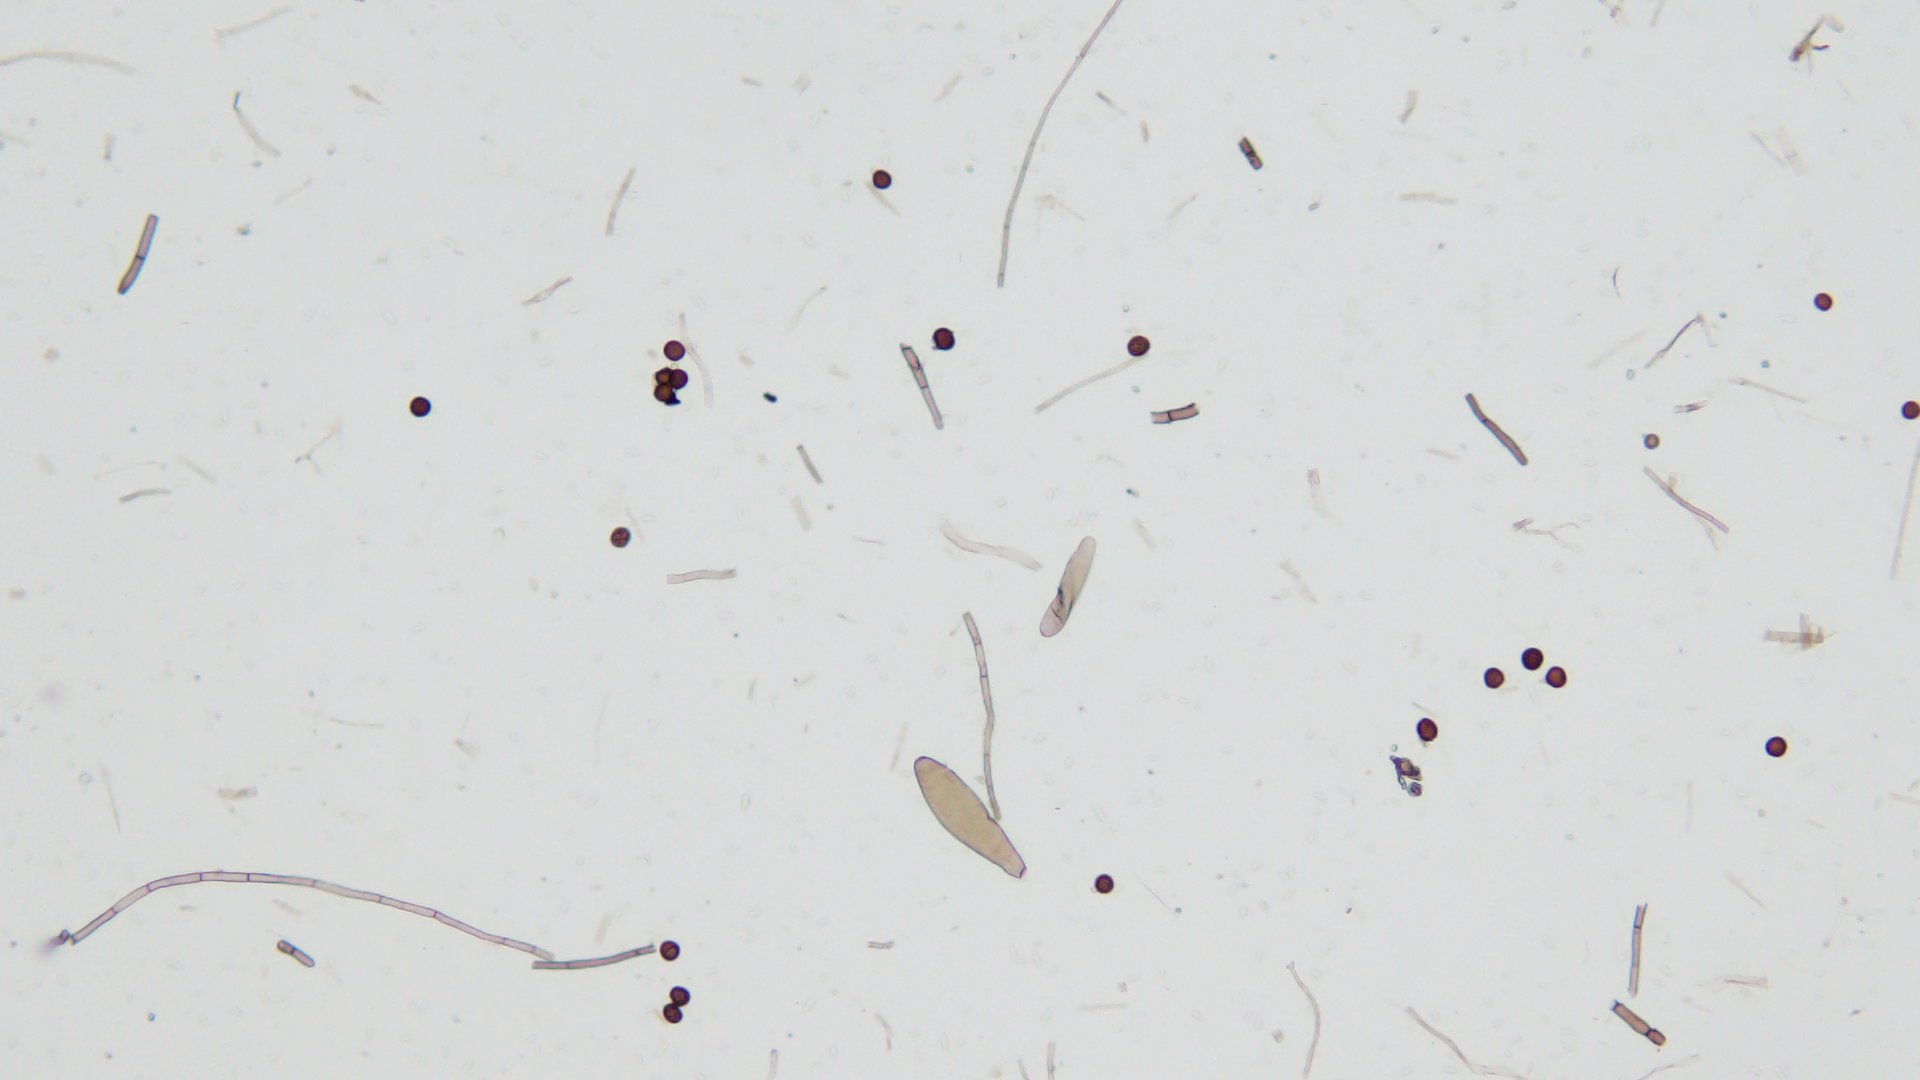dbb_spore: (913, 754, 1029, 882), (1036, 531, 1098, 640)
shs_spore: (1520, 646, 1545, 674), (931, 326, 957, 351), (1415, 717, 1440, 742), (870, 167, 894, 191), (1125, 335, 1151, 356), (1545, 666, 1569, 688), (1480, 669, 1505, 690), (611, 527, 633, 550), (1763, 737, 1788, 757), (411, 396, 433, 418), (659, 942, 680, 963), (1899, 398, 1919, 421), (670, 985, 690, 1006), (663, 1004, 684, 1023), (665, 342, 684, 361), (669, 371, 688, 390), (1812, 293, 1833, 311), (1092, 874, 1114, 891)
